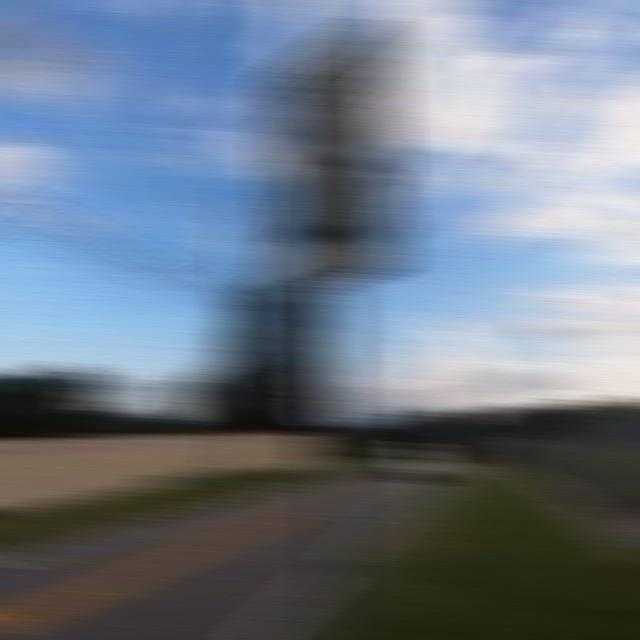speedLimit40: (266, 17, 402, 296)
